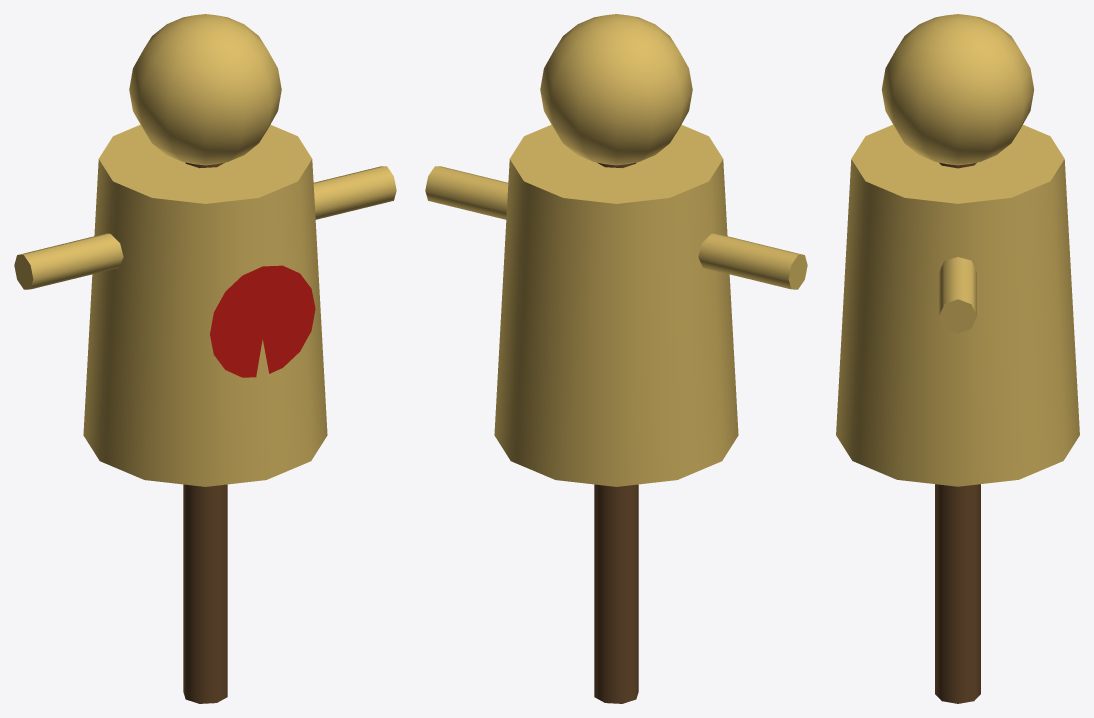
Rendered from dummy.glb.
The picture shows the model from 3 angles, left to right: view 1: azimuth 30°, elevation 25°; view 2: azimuth 150°, elevation 25°; view 3: azimuth 270°, elevation 25°; orthographic projection.
Size of the model in its own units: 1.1 by 1.95 by 0.64.
